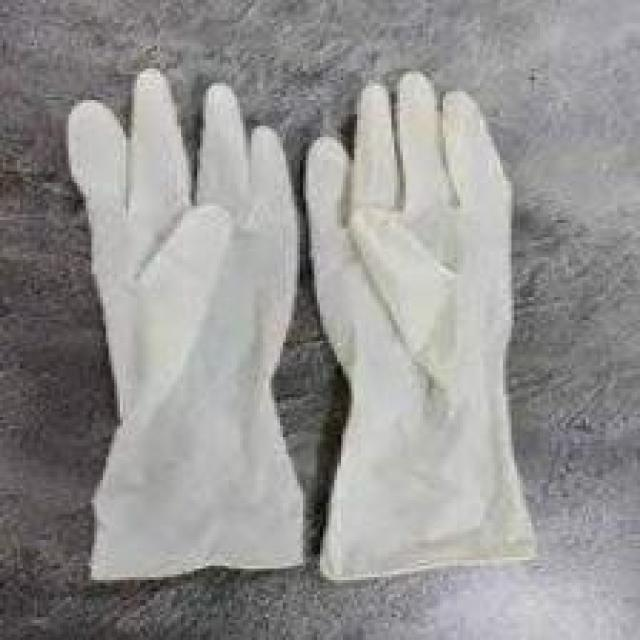Glove: (40, 58, 553, 588)
